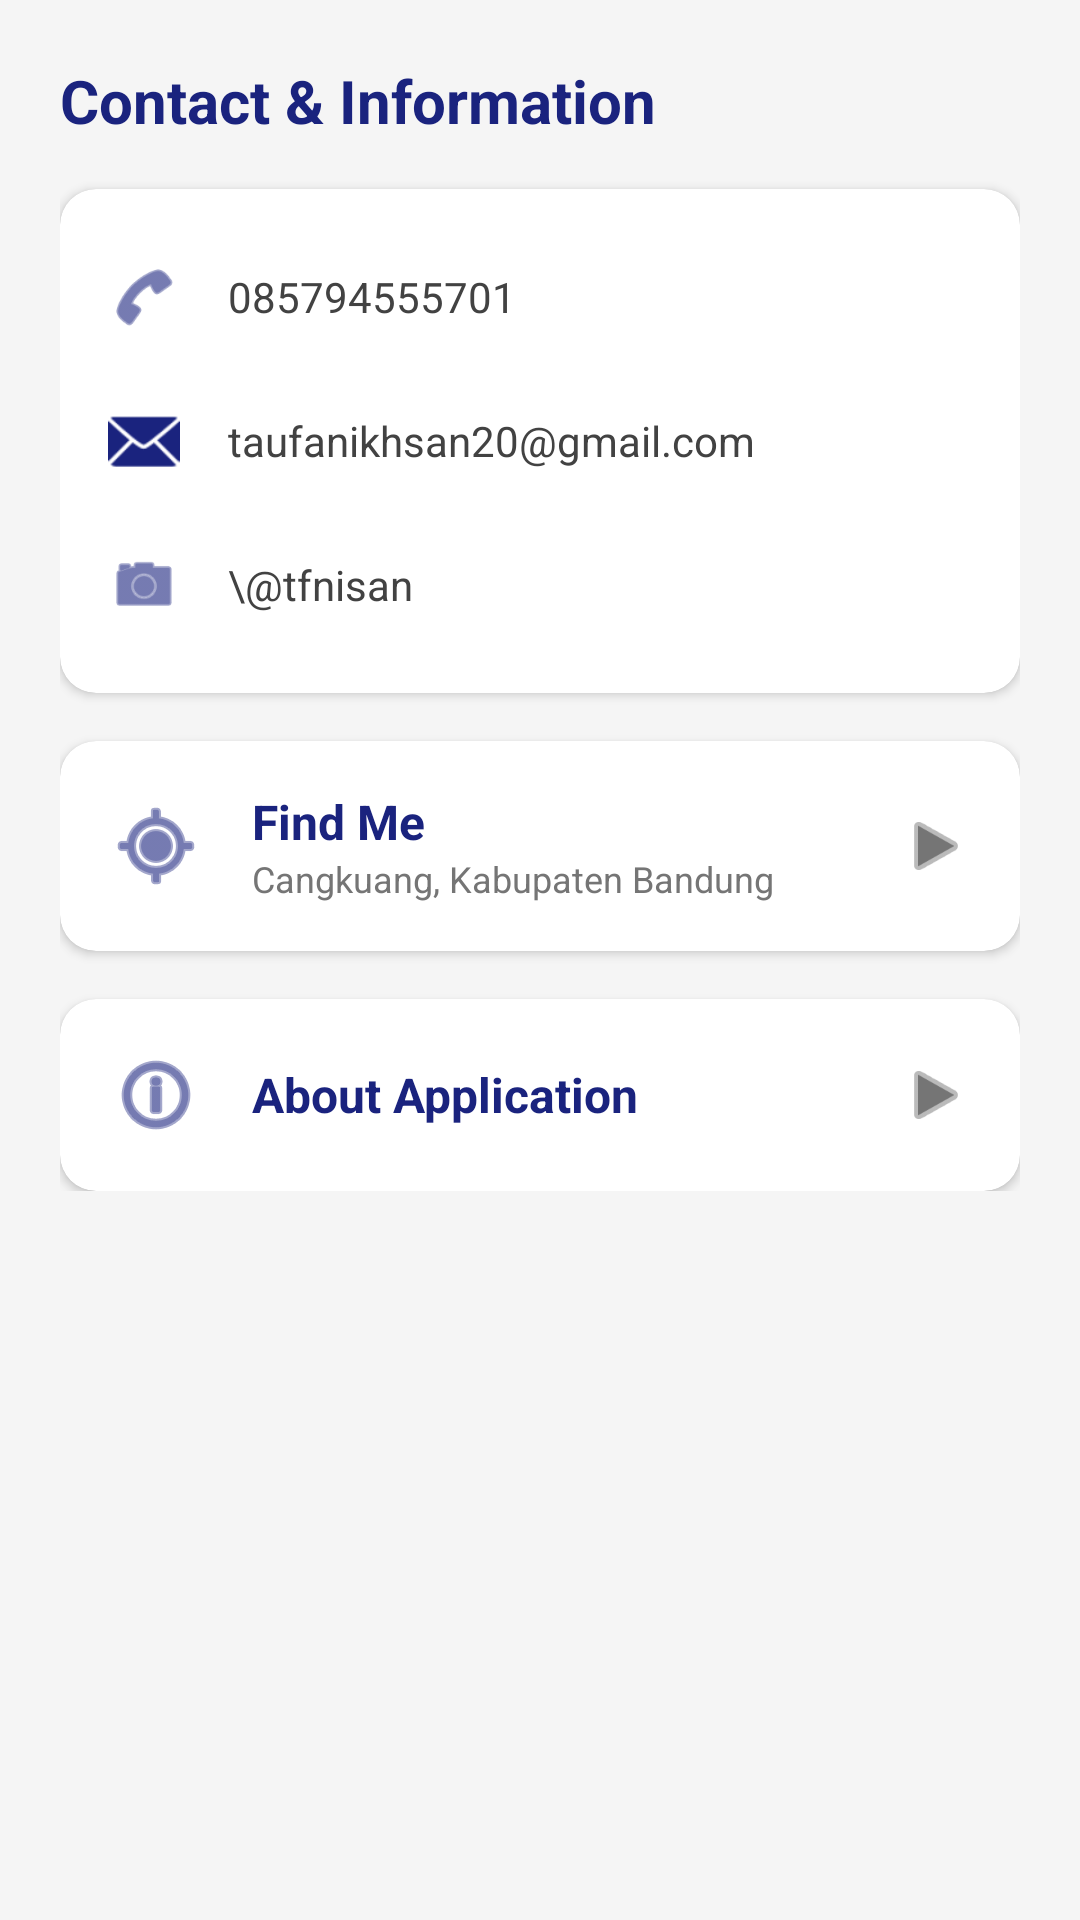

Point at icon controls on the screen. Image size 1080 x 1920, points as [x,y].
call: [144,297]
camera: [144,584]
email: [144,441]
info details: [156,1095]
mylocation: [156,846]
play: [936,846], [936,1095]
